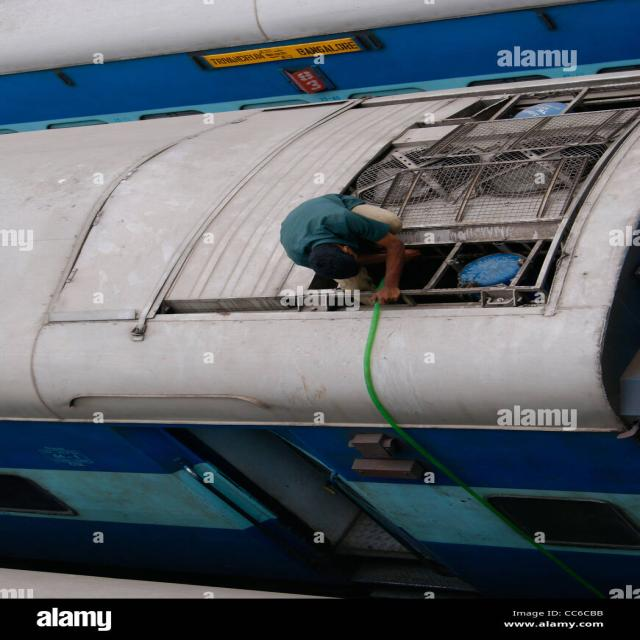Air_Conditioner: (333, 96, 620, 293)
